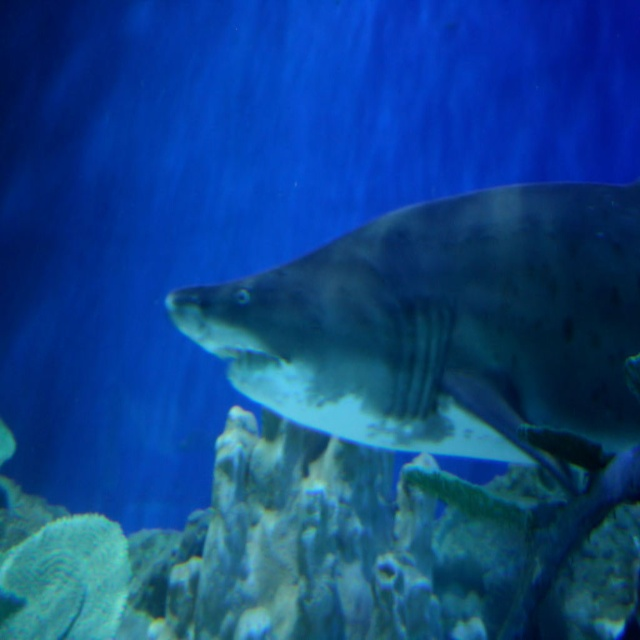Shark: (164, 184, 639, 497)
